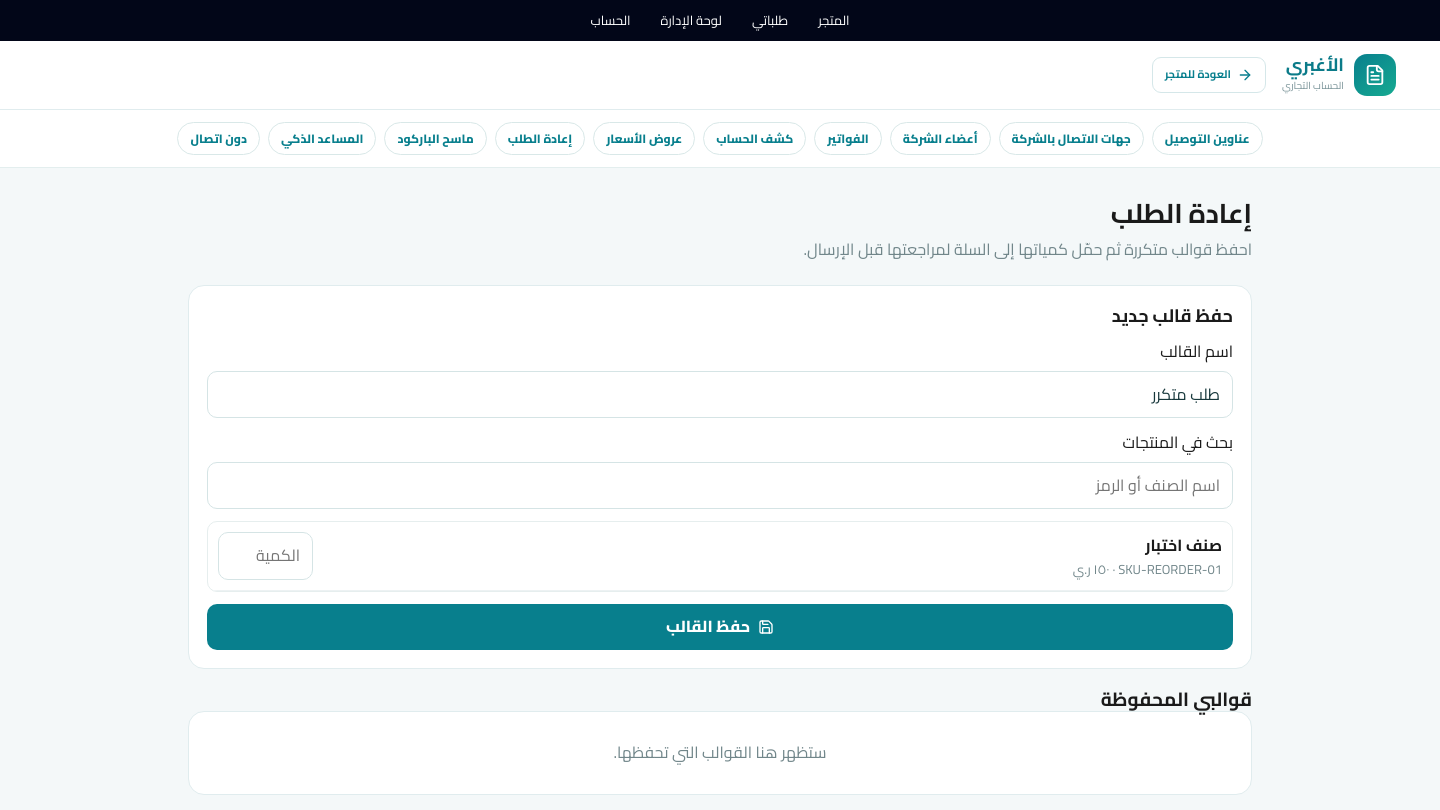
Test: customer reorder real route acceptance › never confirms a failed save and only confirms after the RPC accepts the template
Expected: the number field named "كمية صنف اختبار" is shown, [218, 532, 313, 580]
Replace the text in the field labelled "اسم القالب" with "  قالب التوريد  " at [720, 394], box [207, 371, 1233, 418]
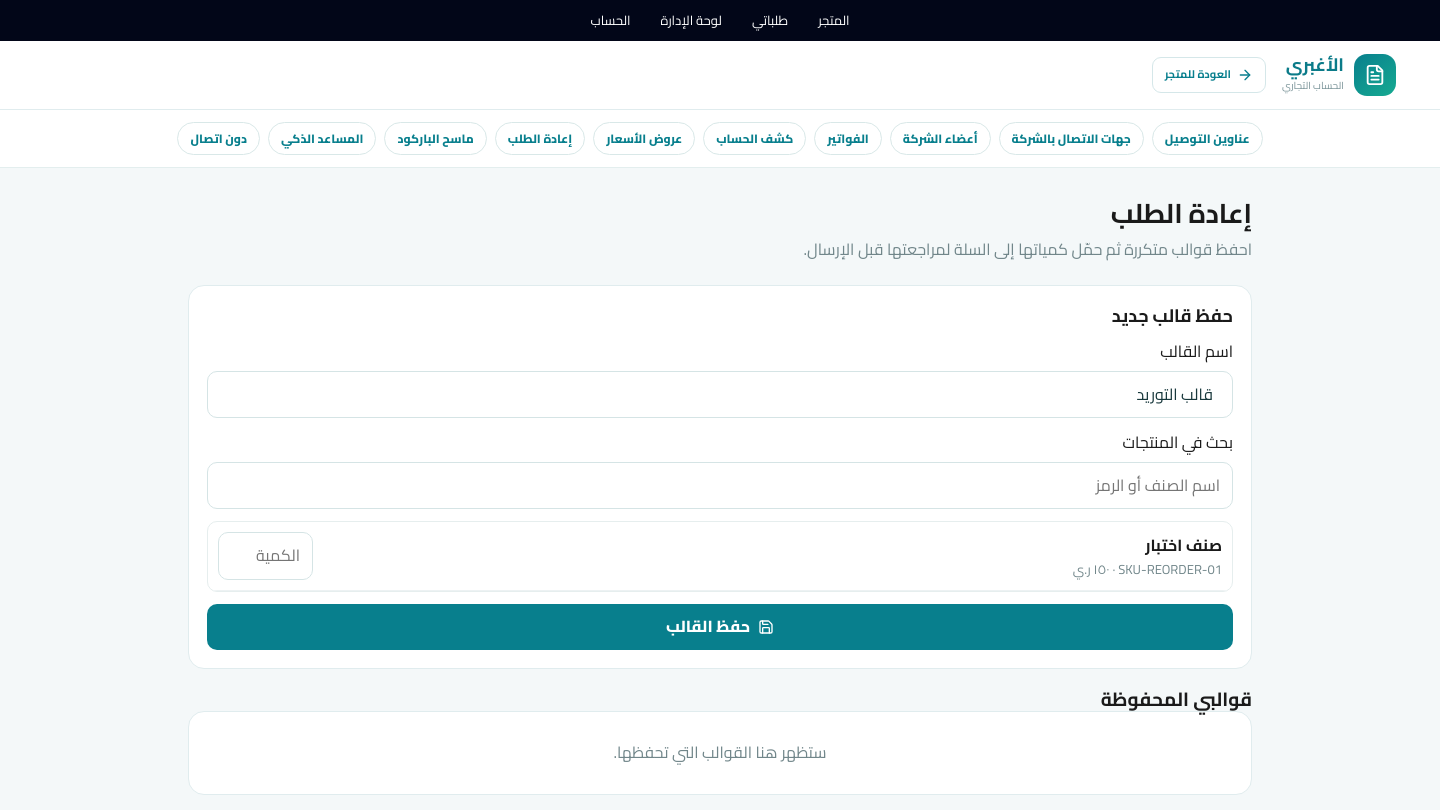
Type "4" into the number field named "كمية صنف اختبار".
click(266, 556); type("4")  # box [218, 532, 313, 580]
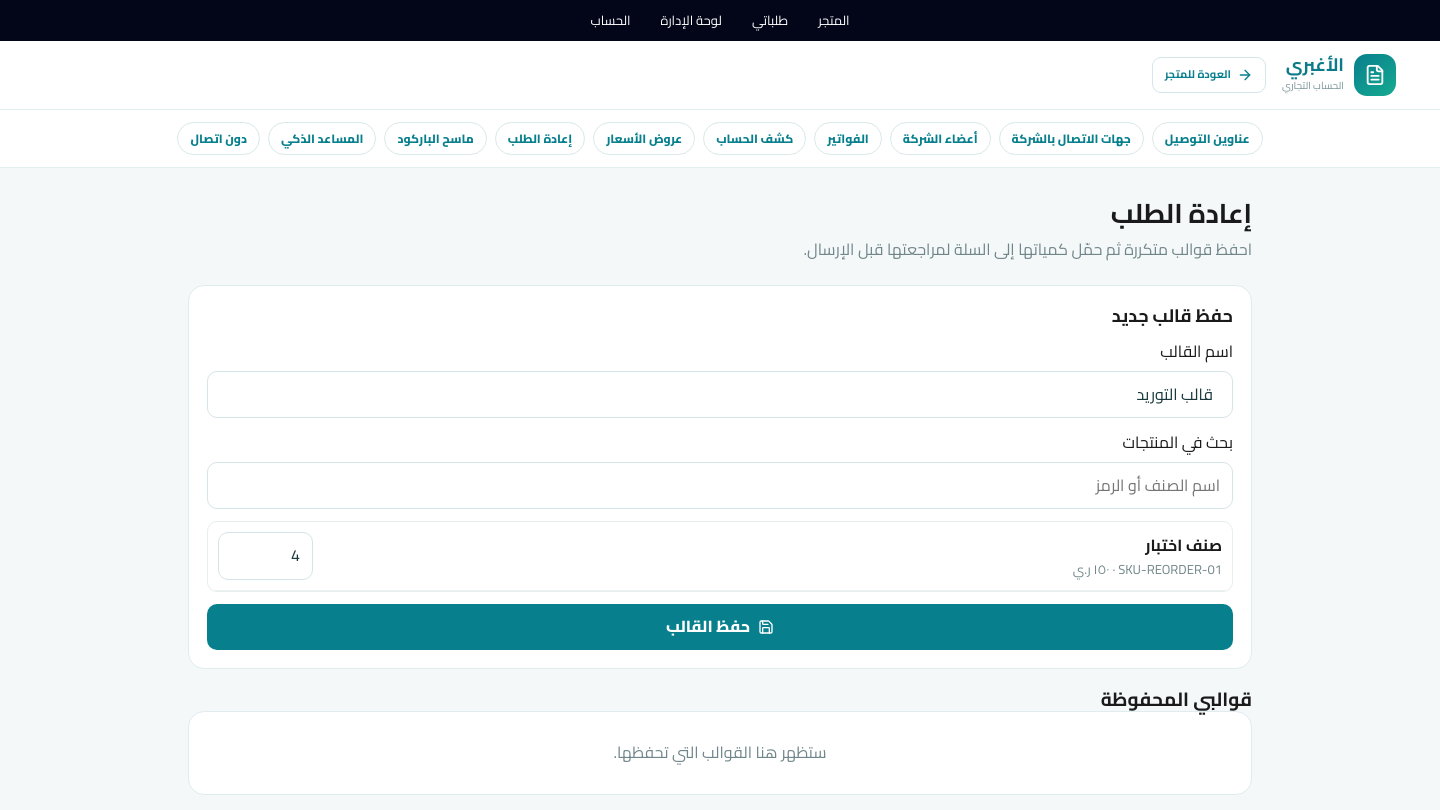
Click the button "حفظ القالب".
click(720, 627)  # box [207, 604, 1233, 650]
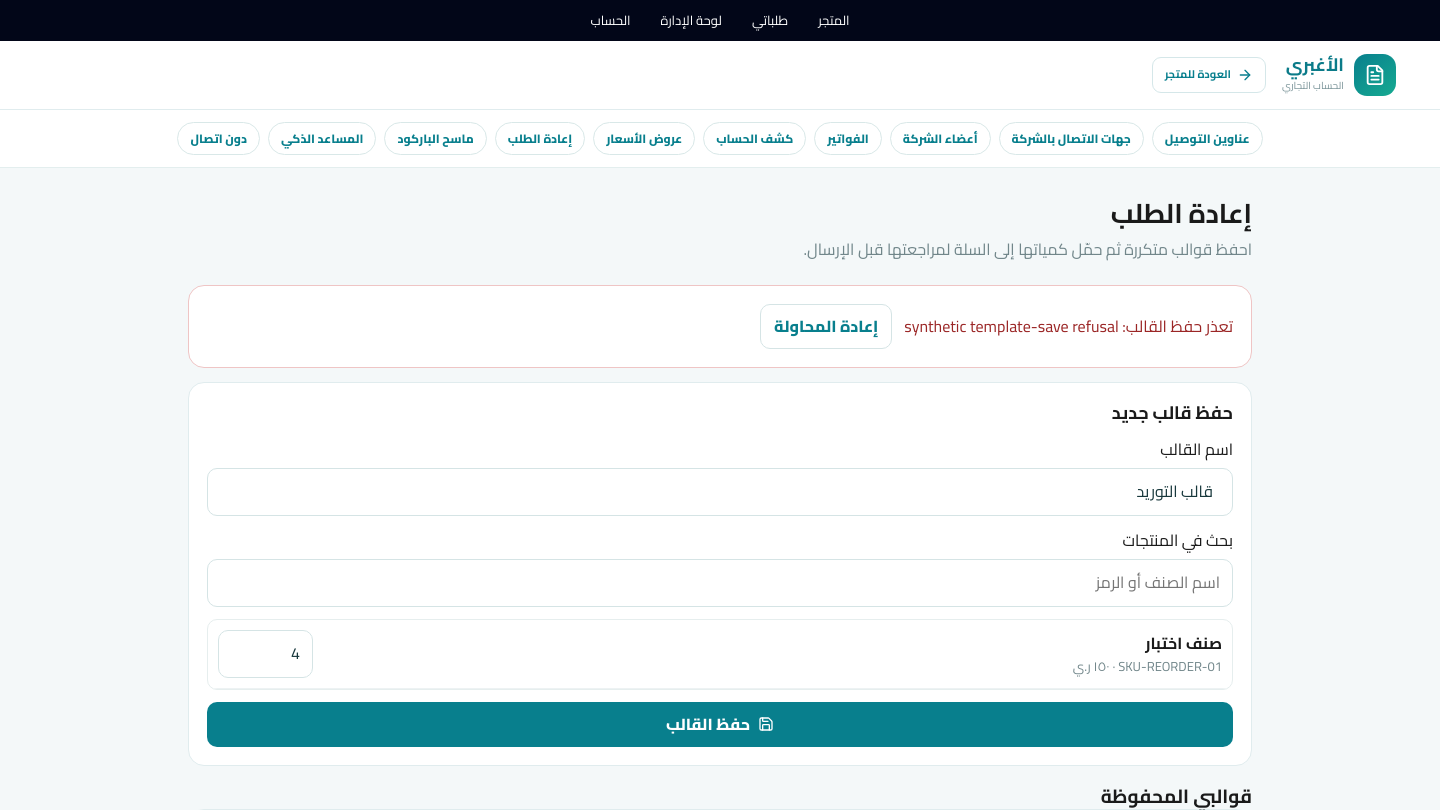
Expected: the text "تم حفظ قالب إعادة الطلب" is not shown
Expected: the message "تعذر حفظ القالب: synthetic template-save refusal إعادة المحاولة" is shown, [188, 285, 1252, 368]
Click the button "حفظ القالب".
click(720, 724)  # box [207, 702, 1233, 747]
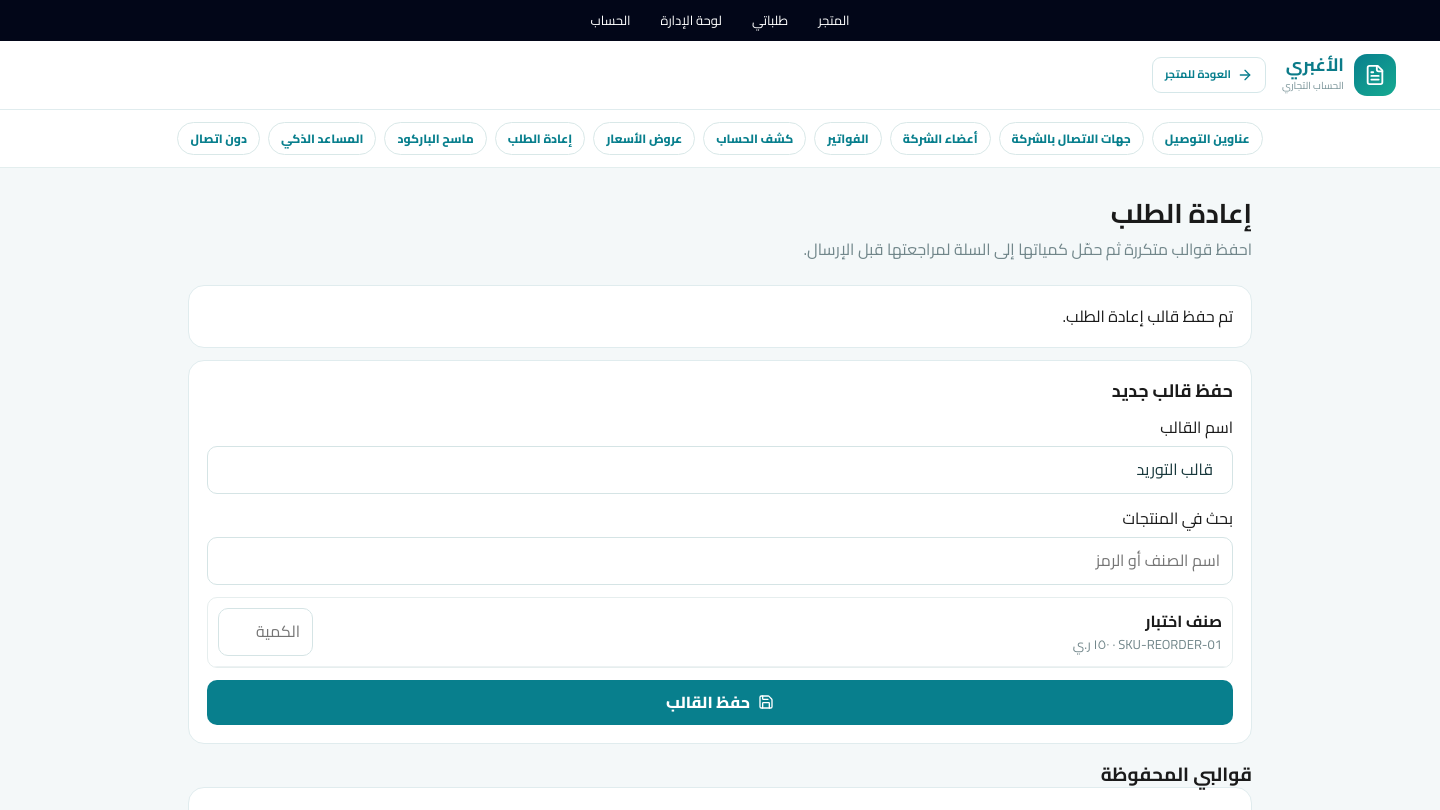
Expected: the message "تعذر حفظ القالب: synthetic template-save refusal إعادة المحاولة" is gone
Expected: the message "تم حفظ قالب إعادة الطلب." is shown, [188, 285, 1252, 348]
